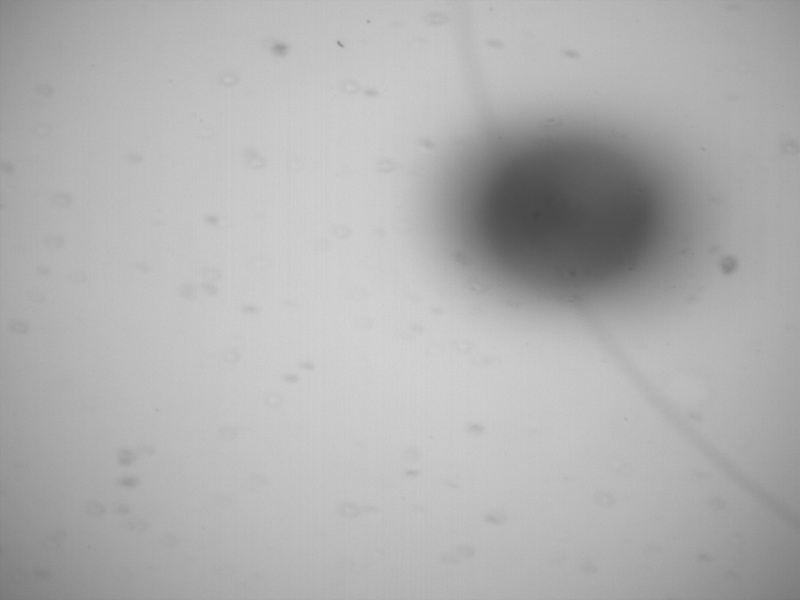bead: (484, 137, 662, 292)
